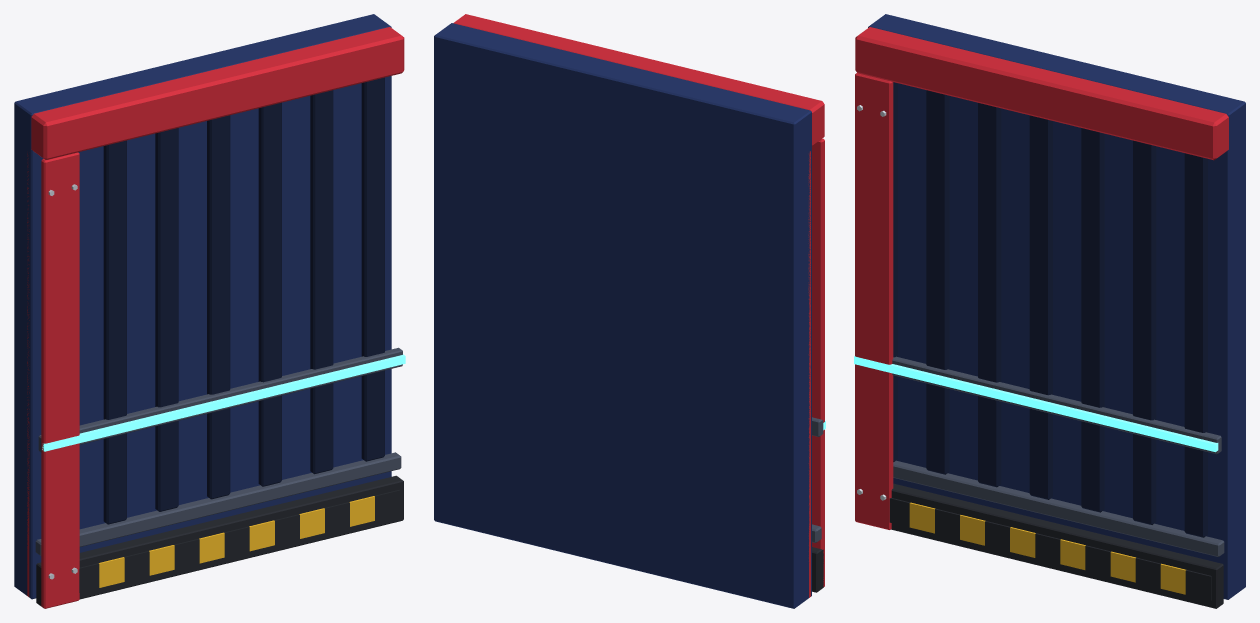
Rendered from Wall_Panel.fbx.
3 renders of one model, left to right at view 1: azimuth 30°, elevation 25°; view 2: azimuth 150°, elevation 25°; view 3: azimuth 330°, elevation 25°, orthographic.
Parts seen in each view (by area): view 1: Wall_Panel, Neon_Cyan; view 2: Wall_Panel; view 3: Wall_Panel, Neon_Cyan.
Part boxes in pixels (x1,y1,x2,y2): Wall_Panel: (14,14,404,608); Neon_Cyan: (42,354,405,451); Wall_Panel: (434,14,824,608); Wall_Panel: (855,14,1245,608); Neon_Cyan: (854,356,1218,452).
Bounding box in the file's own units: 14 × 18 × 2.17.
Materials: 2 (1 with a texture image).
